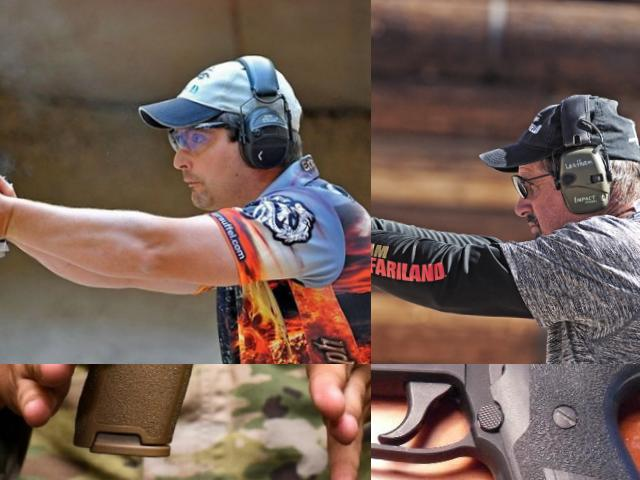handgun: (15, 364, 371, 480), (371, 364, 640, 480), (0, 125, 76, 267), (371, 168, 436, 227)
